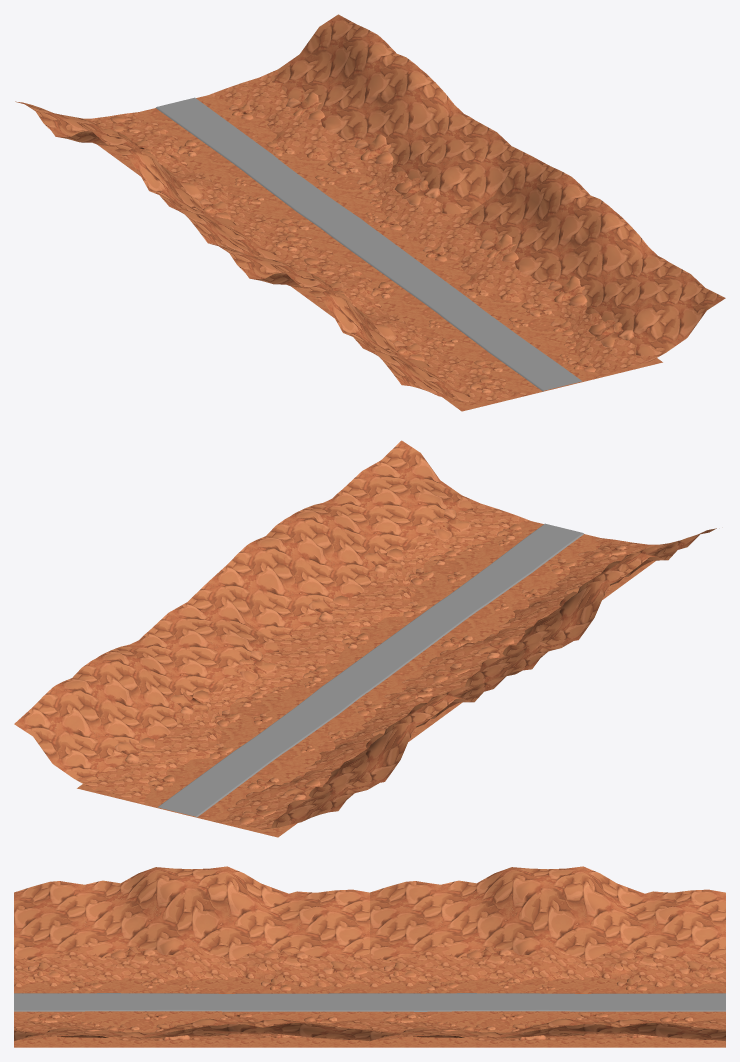
File: DesertTrack_50x100.FBX
The picture shows the model from 3 angles, top to bottom: view 1: azimuth 30°, elevation 25°; view 2: azimuth 150°, elevation 25°; view 3: azimuth 270°, elevation 25°; orthographic projection. The views are drawn at different scales.
Visible parts, largest first — view 1: DesertTrack_50x100; view 2: DesertTrack_50x100; view 3: DesertTrack_50x100.
Boxes of the visible parts, <box> form: DesertTrack_50x100: <box>15,14,725,411</box>; DesertTrack_50x100: <box>14,440,716,837</box>; DesertTrack_50x100: <box>14,866,725,1047</box>.
Bounding box in the file's own units: 49.07 × 10.17 × 100.
Materials: 2 (1 with a texture image).
